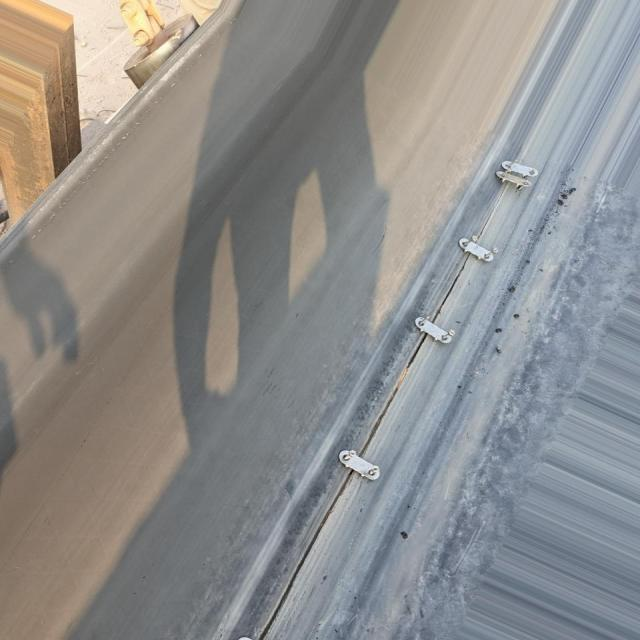Roller: (125, 10, 196, 90)
patch work: (273, 155, 567, 640)
